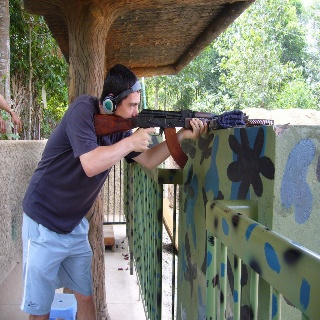rifle: (93, 107, 276, 169)
